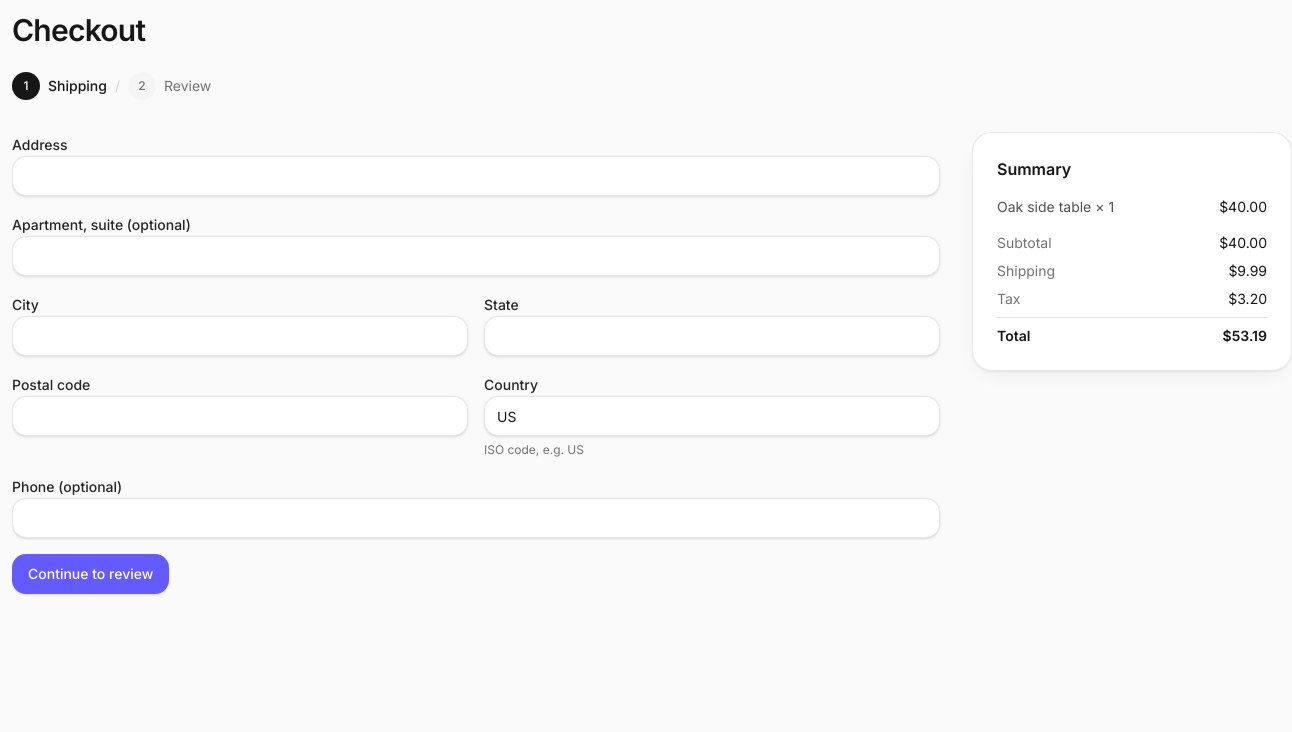
Test: Checkout form › submits a valid address and opens review
The width and height of the screenshot is (1292, 732).
Type "100 Market Street" into the field labelled "Address". click: x=476, y=176
box: [12,156,940,196]
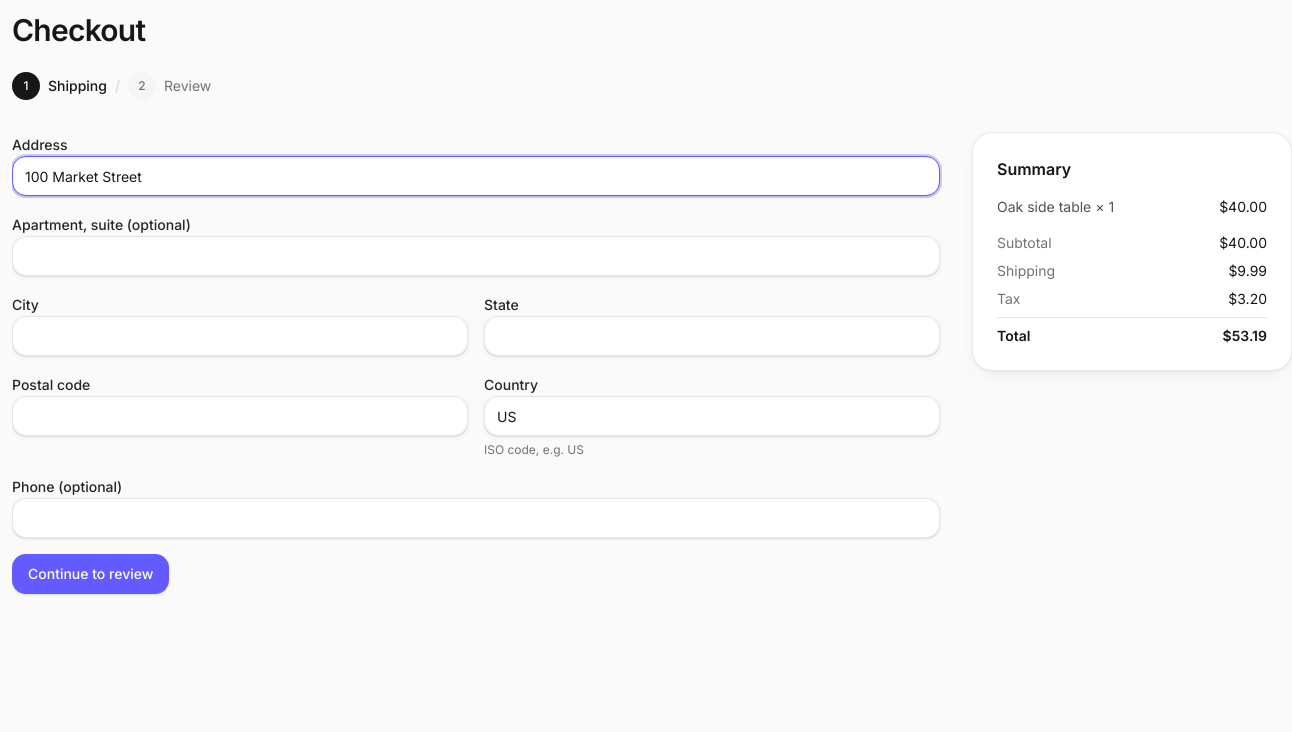
Type "Austin" into the field labelled "City". click: x=240, y=336
box: [12,316,468,356]
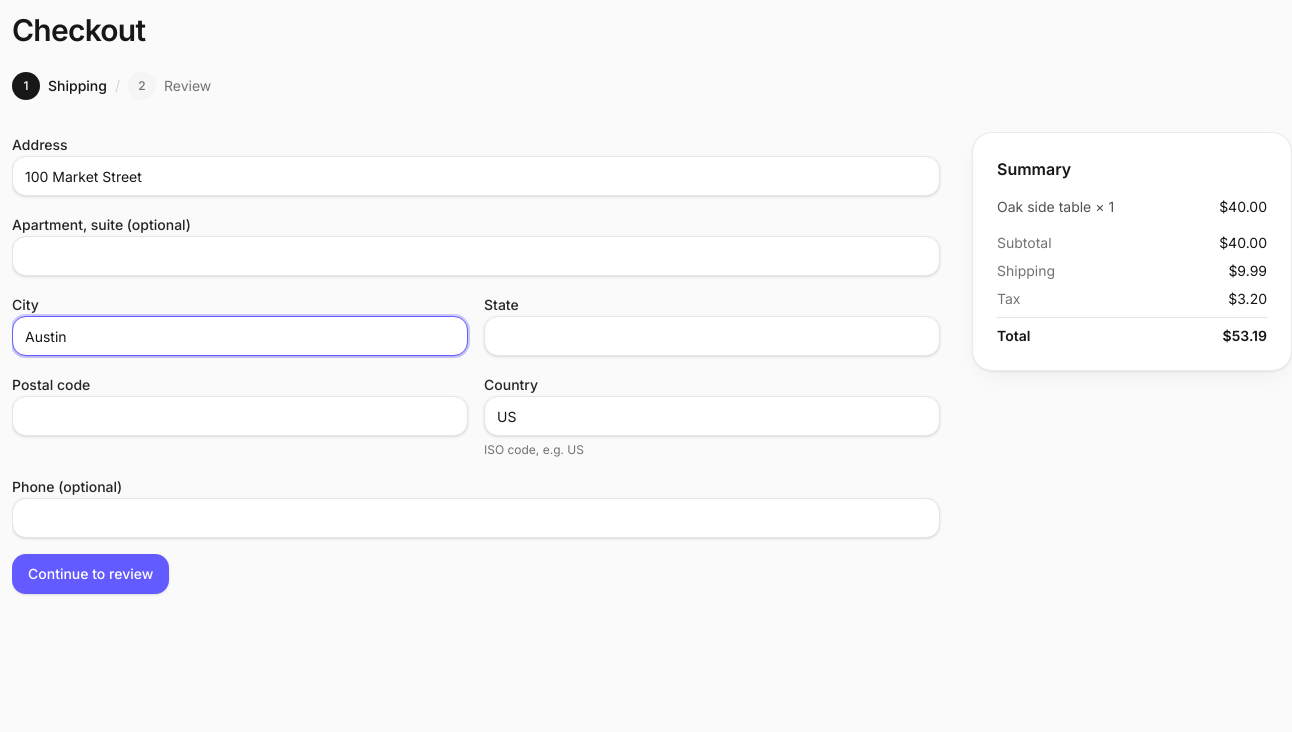
Type "78701" into the field labelled "Postal code". click: x=240, y=416
box: [12,396,468,436]
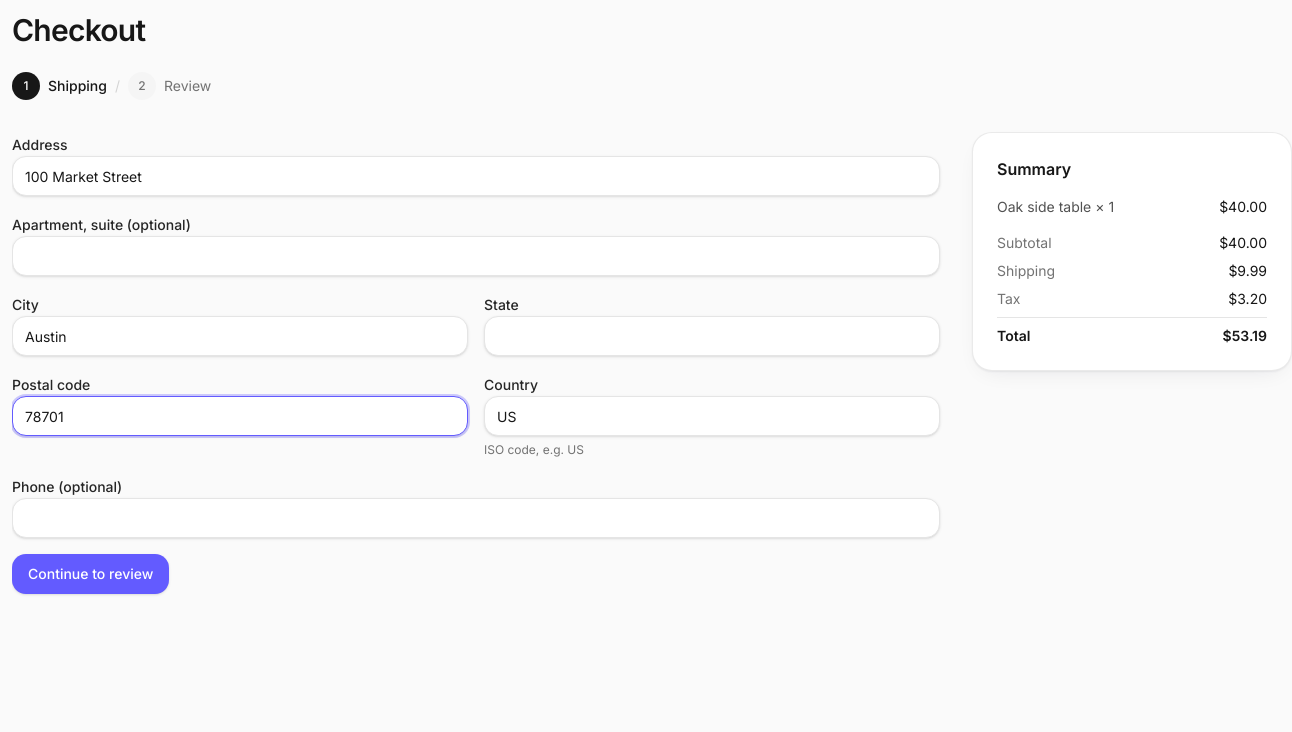
Click the button "Continue to review". click: x=91, y=574
box: [12,554,169,594]
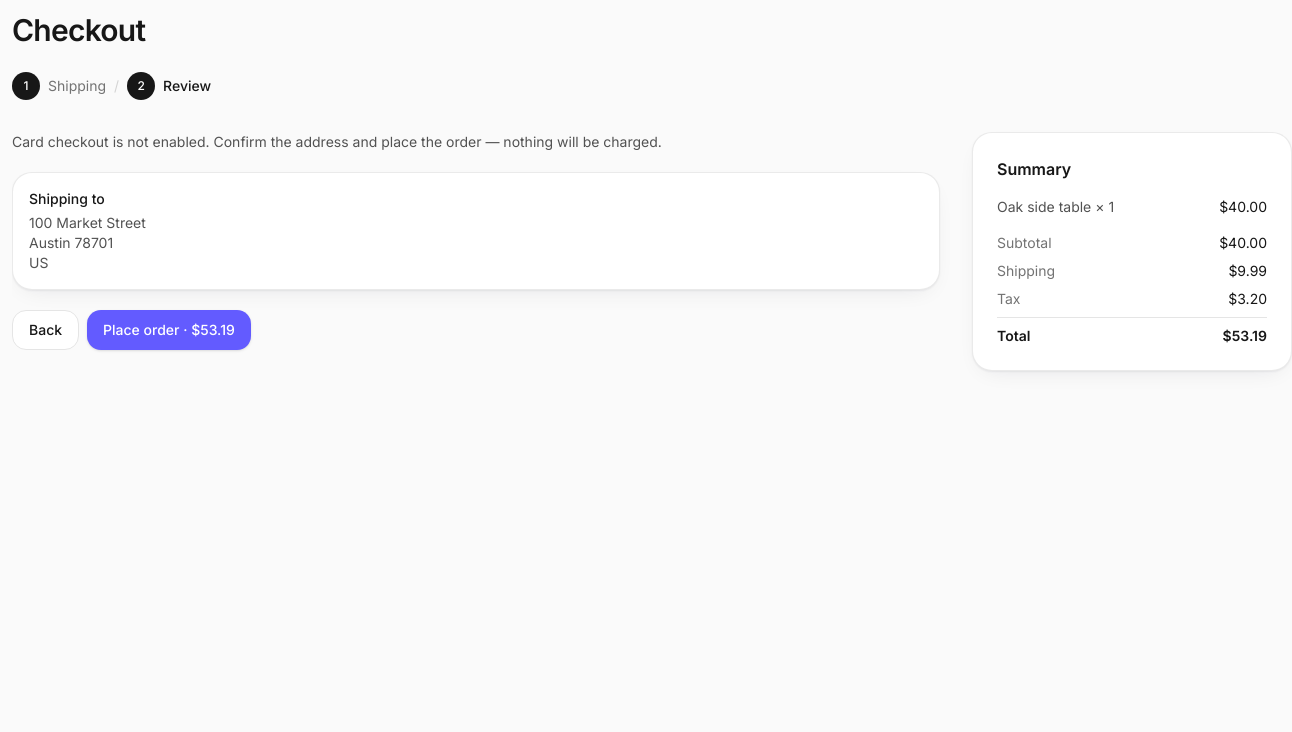
Check: the text "Card checkout is not enabled" is shown, box [12,133,662,150]
Check: the button "Place order · $53.19" is shown, box [87,310,251,350]
